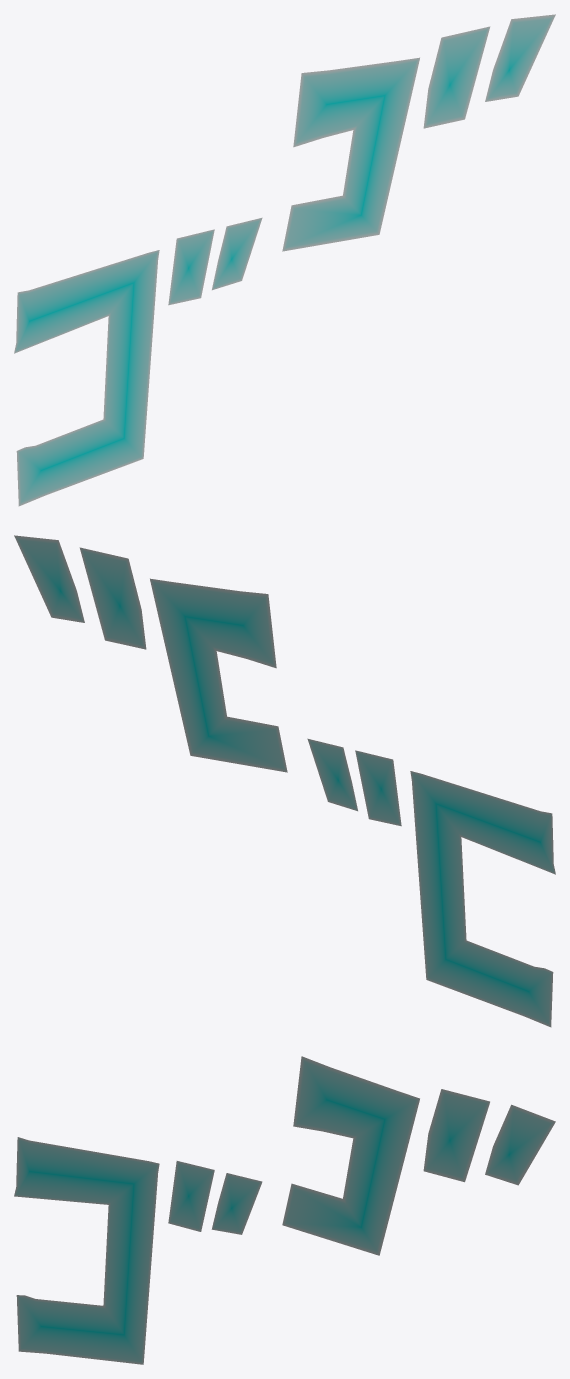
File: SM_EFF_Text_DestroyerFlame_01.glb
3 views of the same model, one above another, from view 1: azimuth 30°, elevation 25°; view 2: azimuth 150°, elevation 25°; view 3: azimuth 330°, elevation 25° (orthographic).
Visible parts, largest first — view 1: SM_EFF_Text_DestroyerFlame_01; view 2: SM_EFF_Text_DestroyerFlame_01; view 3: SM_EFF_Text_DestroyerFlame_01.
Part boxes in pixels (left/top/right/bottom): SM_EFF_Text_DestroyerFlame_01: left=14, top=14, right=555, bottom=506; SM_EFF_Text_DestroyerFlame_01: left=14, top=535, right=555, bottom=1027; SM_EFF_Text_DestroyerFlame_01: left=14, top=1056, right=555, bottom=1364.
Size of the model in its own units: 2 by 1.29 by 4.62e-16.
